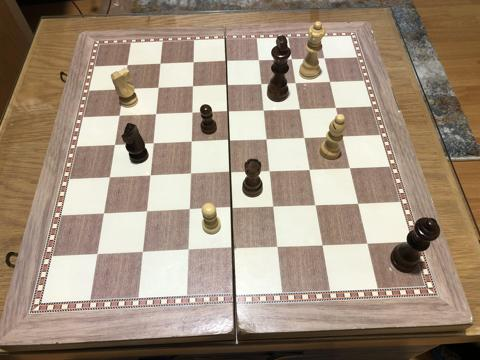xcorner: (267, 201, 280, 213), (361, 237, 373, 250), (90, 249, 103, 261), (318, 51, 330, 63), (286, 52, 298, 64), (253, 54, 265, 66), (220, 55, 232, 67), (187, 56, 199, 68), (154, 57, 166, 69), (121, 58, 133, 70), (324, 75, 336, 87), (290, 76, 302, 88), (255, 77, 267, 89), (221, 79, 233, 91), (187, 80, 199, 92), (152, 81, 164, 93), (117, 82, 129, 94), (330, 101, 342, 113), (294, 102, 306, 114), (258, 104, 270, 116), (222, 105, 234, 117), (186, 106, 198, 118), (149, 108, 161, 120), (113, 109, 125, 121), (336, 130, 348, 142), (299, 131, 311, 143), (261, 133, 273, 145), (223, 134, 235, 146), (185, 136, 197, 148), (147, 137, 159, 149), (108, 139, 120, 151), (344, 162, 356, 174), (304, 163, 316, 175), (264, 165, 276, 177), (224, 167, 236, 179), (184, 168, 196, 180), (143, 170, 155, 182), (103, 171, 115, 183), (352, 197, 364, 209), (310, 199, 322, 211), (225, 203, 237, 215), (183, 204, 195, 216), (140, 206, 152, 218), (97, 208, 109, 220), (316, 239, 328, 251), (271, 241, 283, 253), (226, 243, 238, 255), (181, 245, 193, 257), (136, 247, 148, 259)
